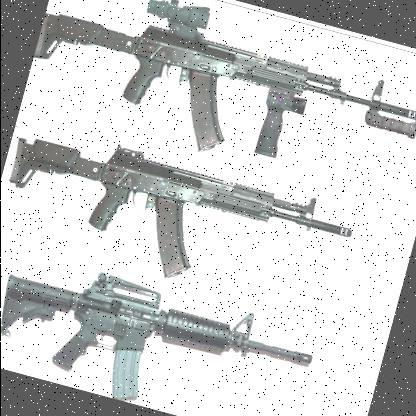rifle: (24, 0, 416, 209), (0, 100, 368, 317), (0, 247, 330, 416)
